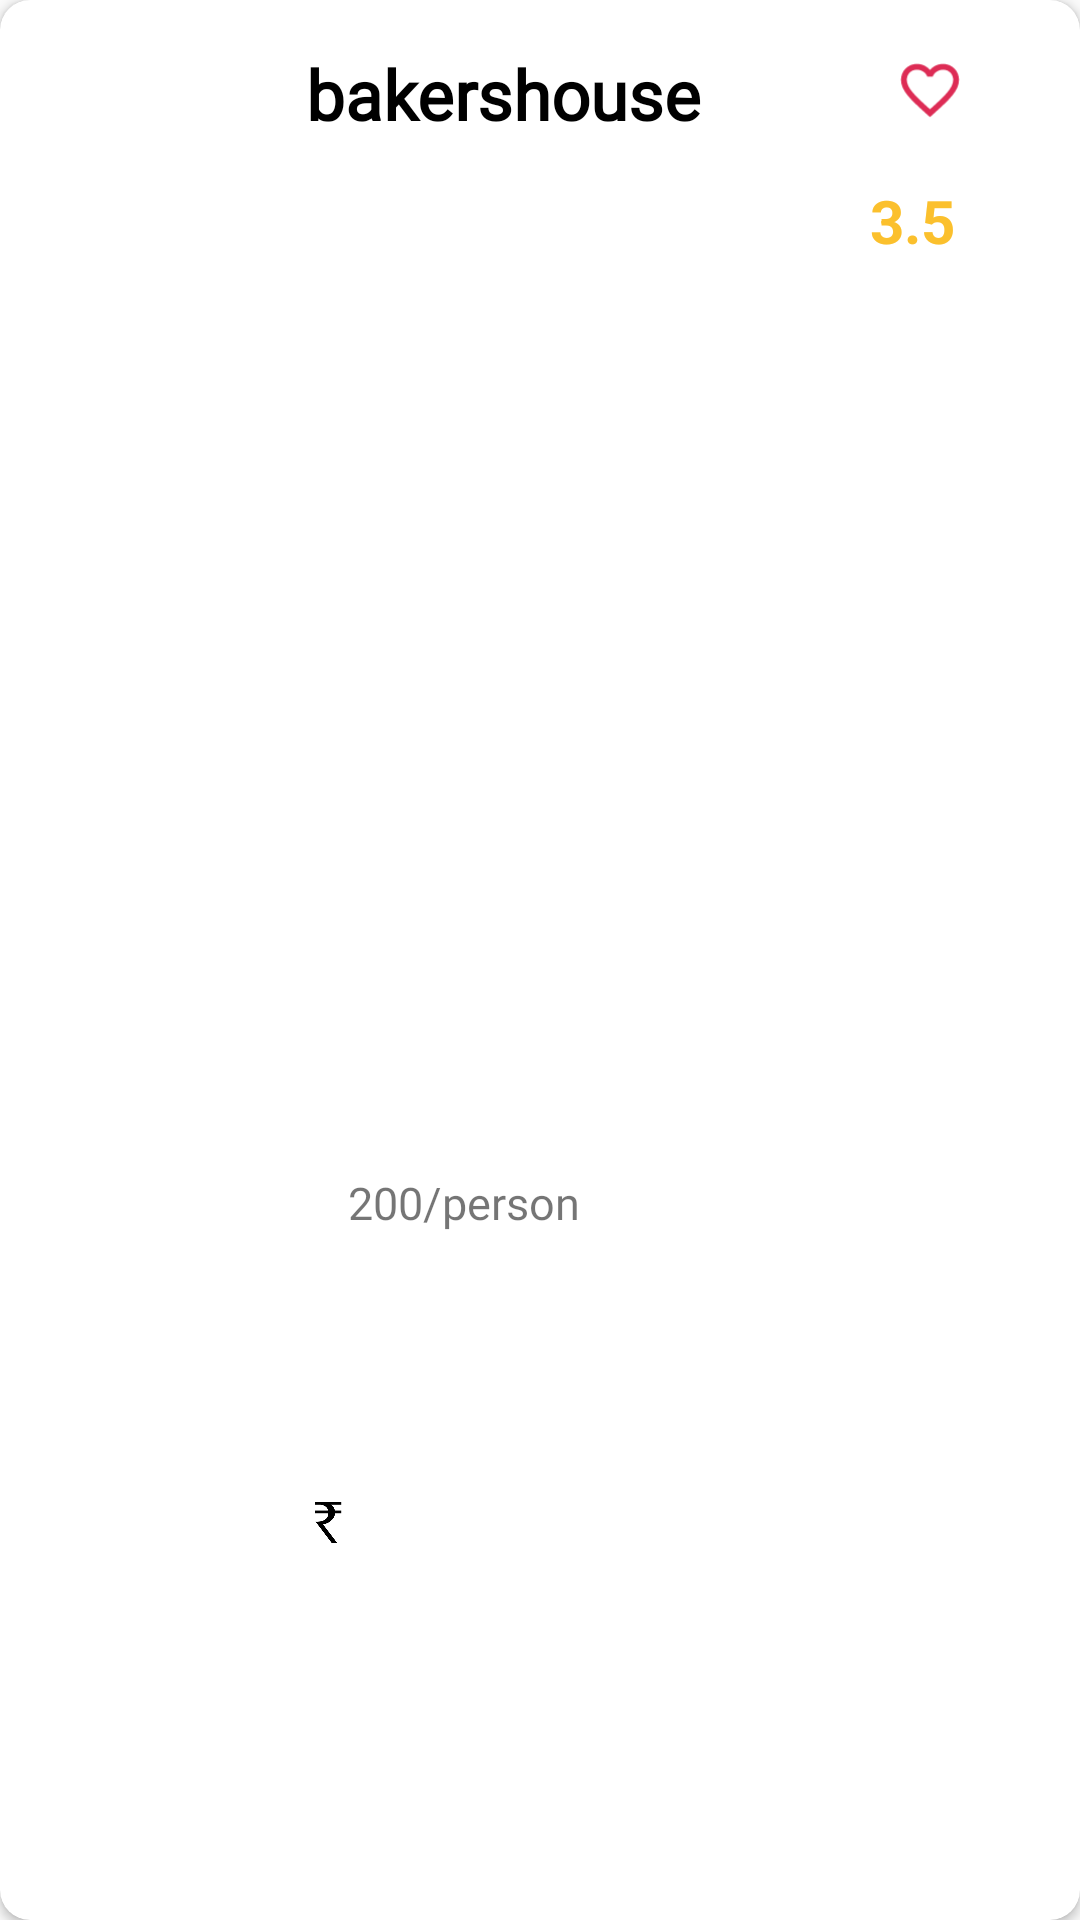

Icons on this 1080*1920 Android screen, each with the point to tap as (x,y):
fav no: (930,90)
